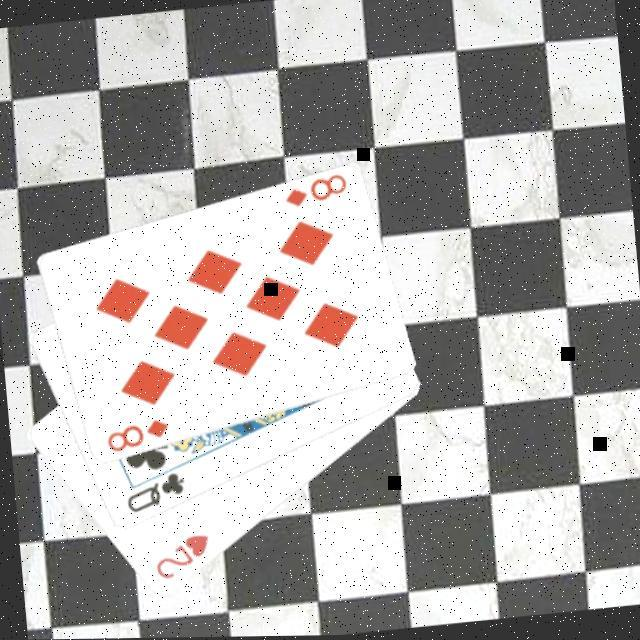2H: (150, 531, 216, 585)
8D: (102, 416, 174, 458), (280, 172, 352, 214)
QC: (121, 469, 190, 518)
